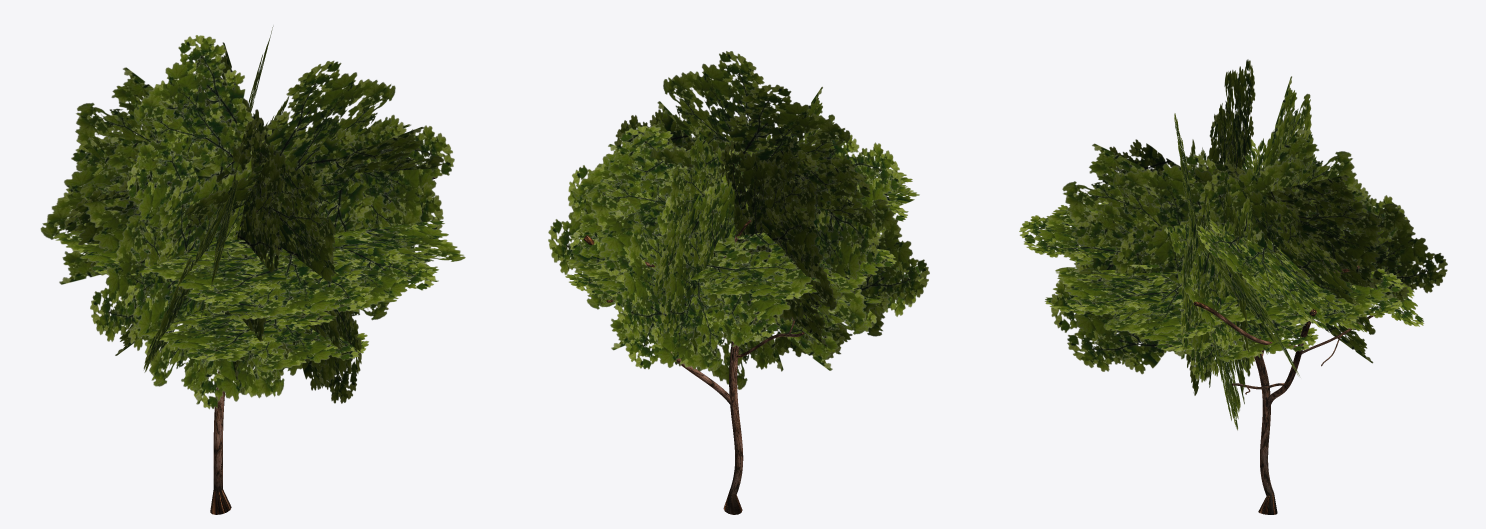
File: Tree.glb
3 views of the same model, side by side, from view 1: azimuth 30°, elevation 25°; view 2: azimuth 150°, elevation 25°; view 3: azimuth 270°, elevation 25° (orthographic). The views are drawn at different scales.
Visible parts, largest first — view 1: Plane.052, NurbsPath; view 2: Plane.052, NurbsPath, Plane; view 3: Plane.052, NurbsPath.
Part boxes in pixels (bbox=[...]): Plane.052: bbox=[40, 25, 465, 409]; NurbsPath: bbox=[210, 177, 437, 514]; Plane.052: bbox=[548, 51, 929, 389]; NurbsPath: bbox=[583, 220, 804, 514]; Plane: bbox=[698, 180, 741, 270]; Plane.052: bbox=[1019, 59, 1447, 430]; NurbsPath: bbox=[1193, 230, 1373, 514].
Bounding box in the file's own units: 6.55 × 7.43 × 7.09.
Materials: 2 (2 with a texture image).
